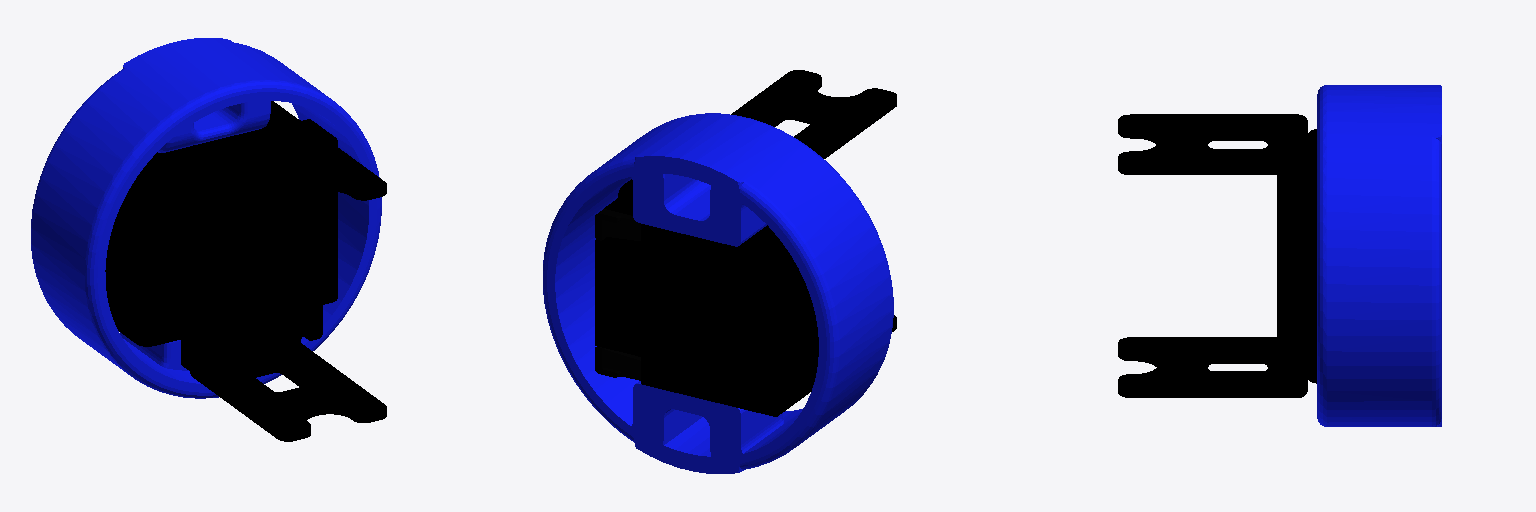
File: tail_color.obj
3 views of the same model, side by side, from view 1: azimuth 30°, elevation 25°; view 2: azimuth 150°, elevation 25°; view 3: azimuth 270°, elevation 25° (orthographic).
Parts seen in each view (by area): view 1: 솔리드1:1, 솔리드1:3, 솔리드1:2, 솔리드1; view 2: 솔리드1:1, 솔리드1, 솔리드1:3, 솔리드10, 솔리드1:2; view 3: 솔리드1:1, 솔리드1:3, 솔리드1:2.
Boxes of the visible parts, <box> form: 솔리드1:1: <box>31,38,381,398</box>; 솔리드1:3: <box>181,120,386,441</box>; 솔리드1:2: <box>107,119,337,346</box>; 솔리드1: <box>105,101,298,297</box>; 솔리드1:1: <box>543,113,893,473</box>; 솔리드1: <box>595,187,811,416</box>; 솔리드1:3: <box>731,70,896,331</box>; 솔리드10: <box>595,209,640,380</box>; 솔리드1:2: <box>618,179,818,390</box>; 솔리드1:1: <box>1317,85,1441,426</box>; 솔리드1:3: <box>1118,114,1307,397</box>; 솔리드1:2: <box>1308,129,1316,383</box>.
Bounding box in the file's own units: 54.97 × 54.98 × 52.